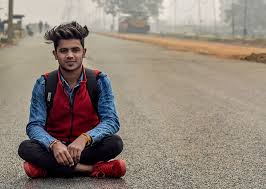person: (48, 25, 88, 70)
